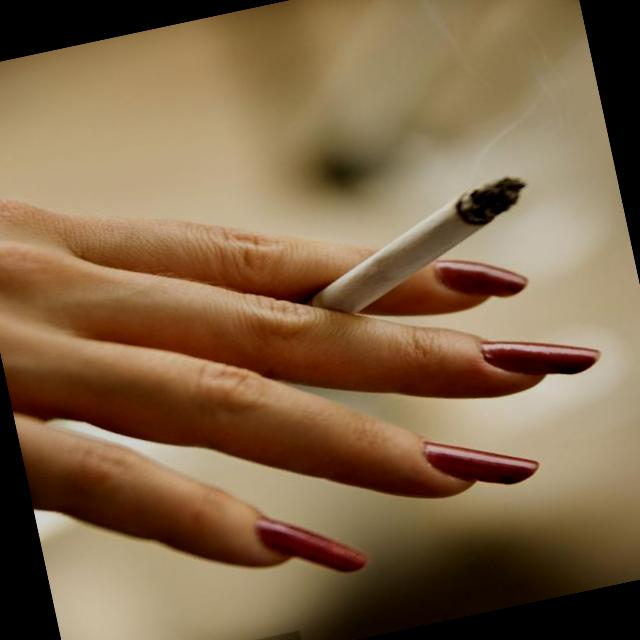smoke: (276, 158, 562, 332)
